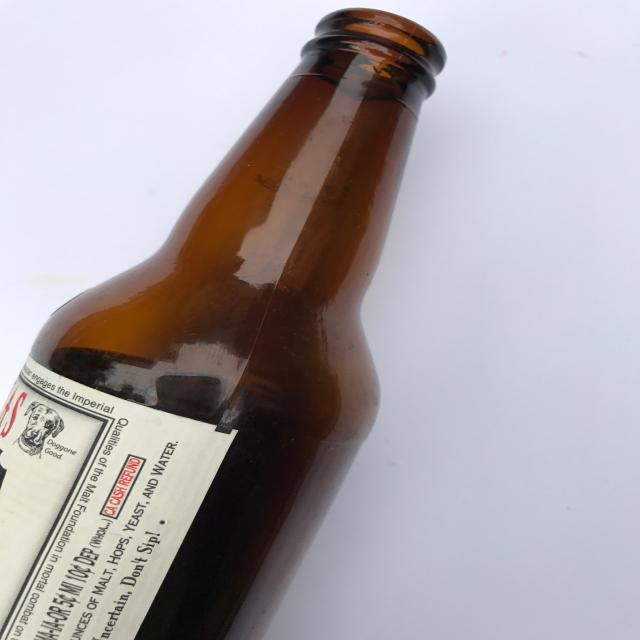glass: (1, 7, 447, 639)
